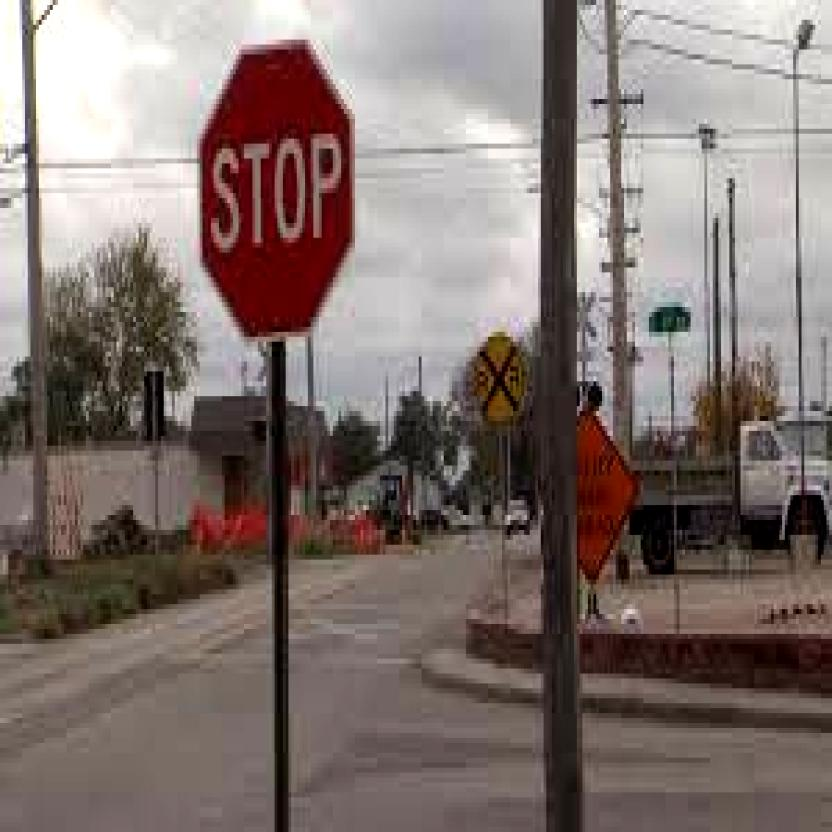Pole: (266, 346, 289, 828)
Sign: (197, 44, 356, 340)
